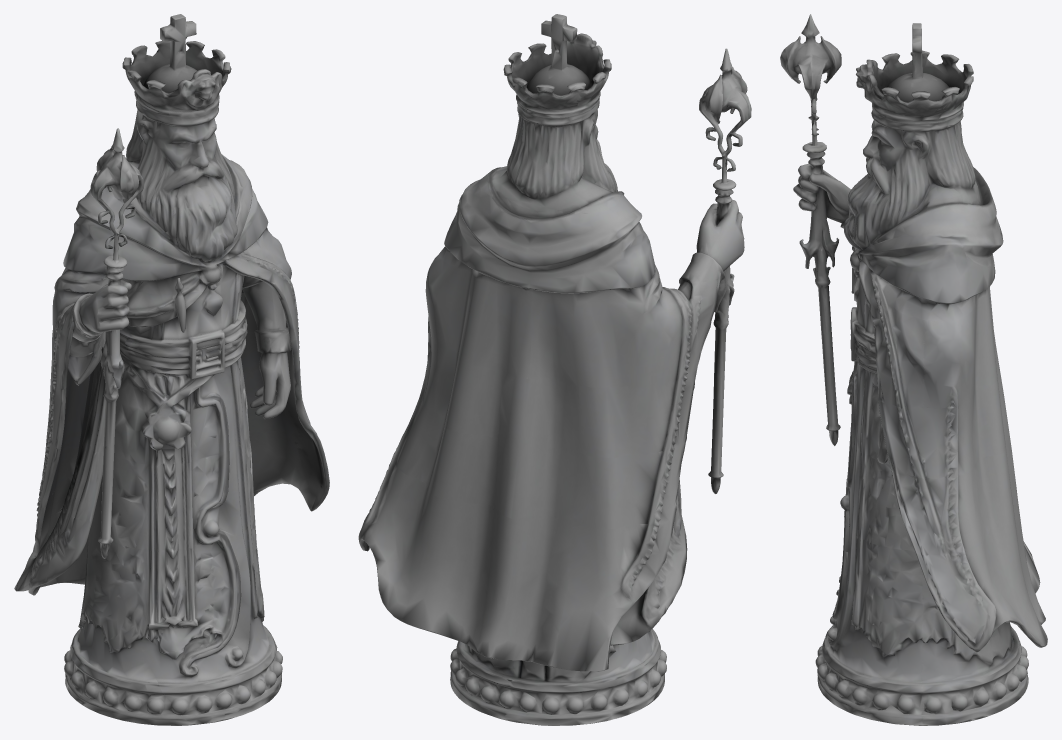
File: bishop.glb
3 renders of one model, left to right at view 1: azimuth 30°, elevation 25°; view 2: azimuth 150°, elevation 25°; view 3: azimuth 270°, elevation 25°, orthographic.
Parts seen in each view (by area): view 1: world; view 2: world; view 3: world.
Part boxes in pixels (<box>): world: <box>14,14,329,725</box>; world: <box>358,14,751,725</box>; world: <box>780,14,1047,725</box>.
Size of the model in its own units: 0.4786 by 1 by 0.3695.
Materials: 1 (1 with a texture image).
